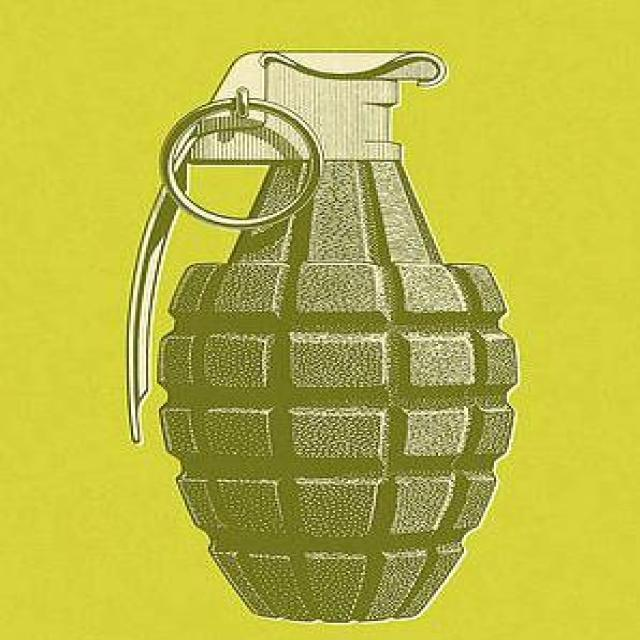grenade: (130, 51, 521, 624)
